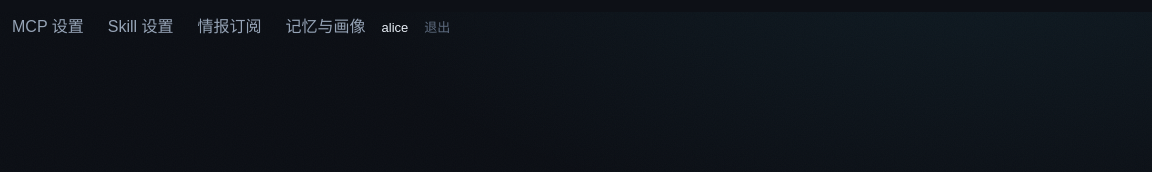
Test case: AuthNav › 点击退出调 logout 并跳转 /login
Click the button "退出" at (437, 28), box [412,12,462,44]
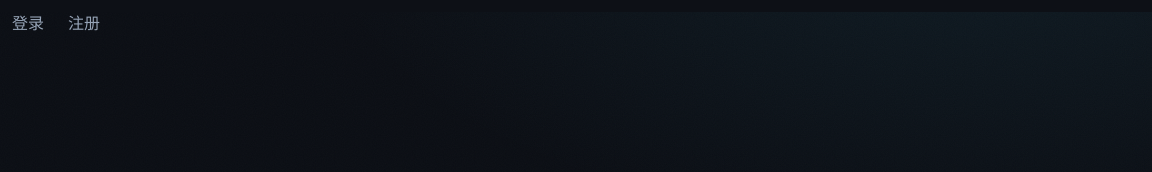
Now the text "alice" is gone
